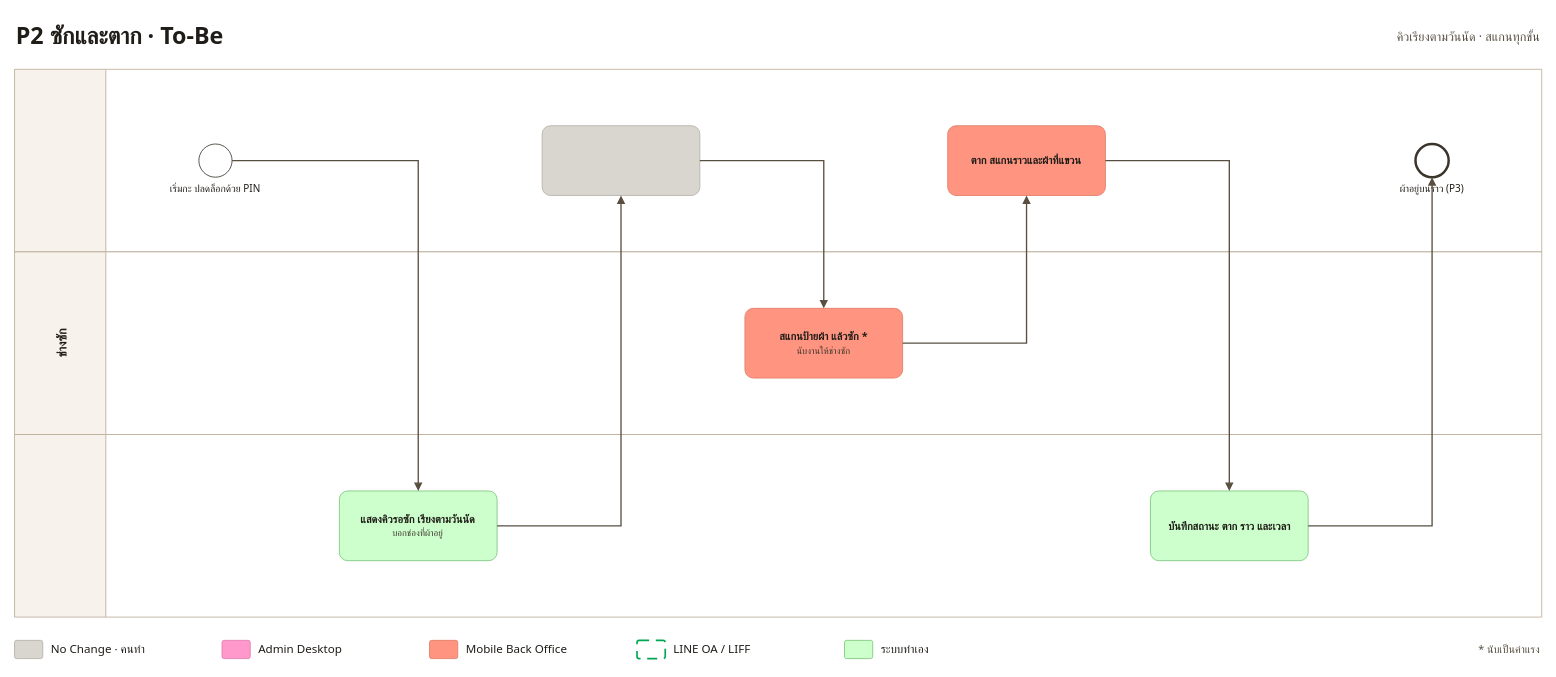
This 1556x677 diagram has some shape labels left out. The shapes that lost their labels are listed below. From the top down, each one's box as (x1, y1, x2, y2) in pixels, then its label:
(541, 125, 700, 195): หยิบผ้าจากช่องที่คิวบอก
(14, 68, 1542, 252): ผู้ช่วย
(14, 434, 1542, 617): ระบบ
